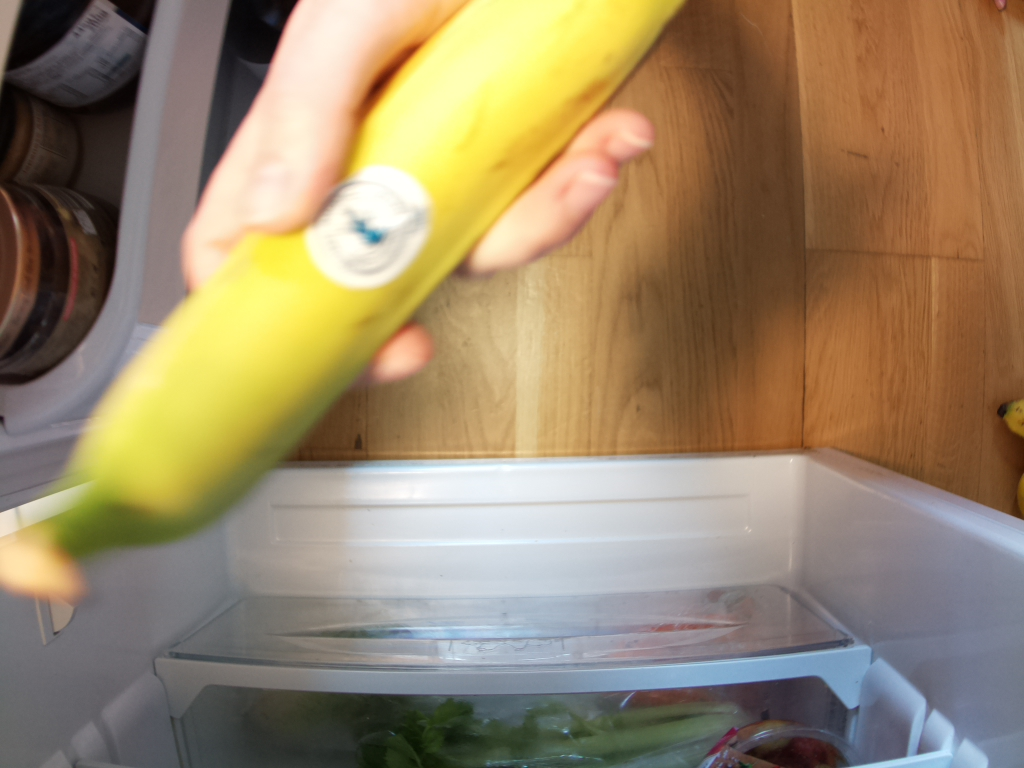banana-unripe: (1, 1, 698, 605)
